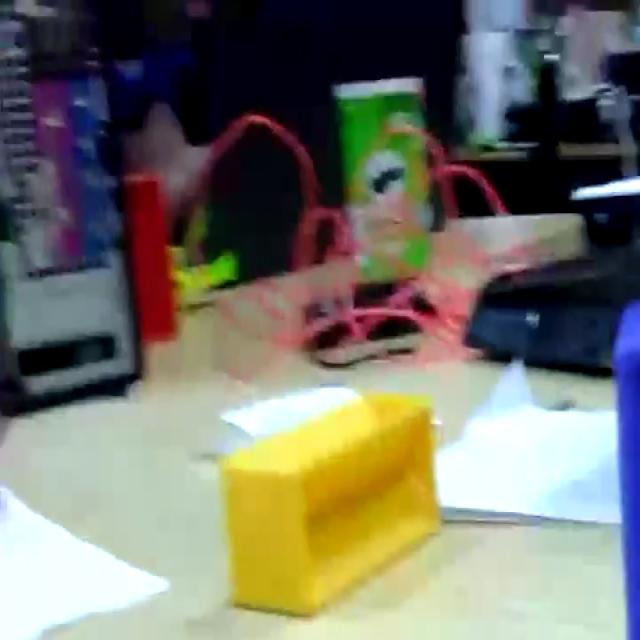red_block: (121, 171, 178, 345)
yellow_block: (218, 388, 442, 616)
